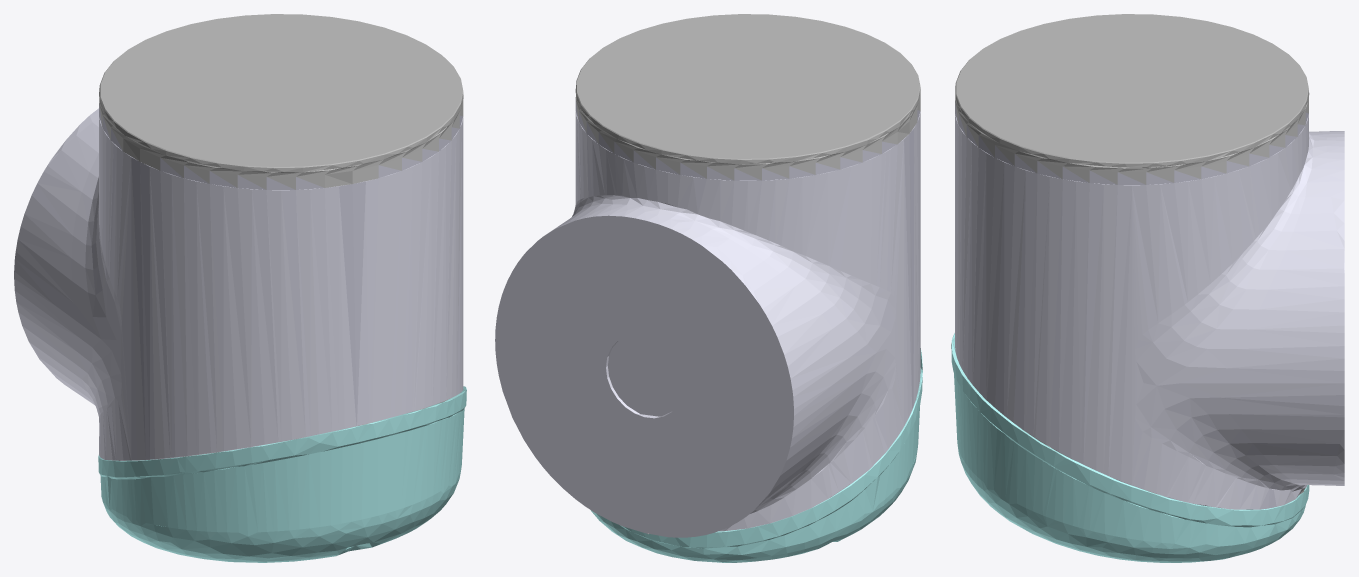
The model's file is LinearUR10Link5.dae.
3 views of the same model, side by side, from view 1: azimuth 30°, elevation 25°; view 2: azimuth 150°, elevation 25°; view 3: azimuth 270°, elevation 25° (orthographic). The views are drawn at different scales.
Visible parts, largest first — view 1: LinearUR10Link5; view 2: LinearUR10Link5; view 3: LinearUR10Link5.
Part boxes in pixels (x1,y1,x2,y2): LinearUR10Link5: [14, 14, 466, 562]; LinearUR10Link5: [495, 14, 922, 562]; LinearUR10Link5: [951, 14, 1344, 562].
Size of the model in its own units: 0.091 by 0.0999 by 0.1187.
